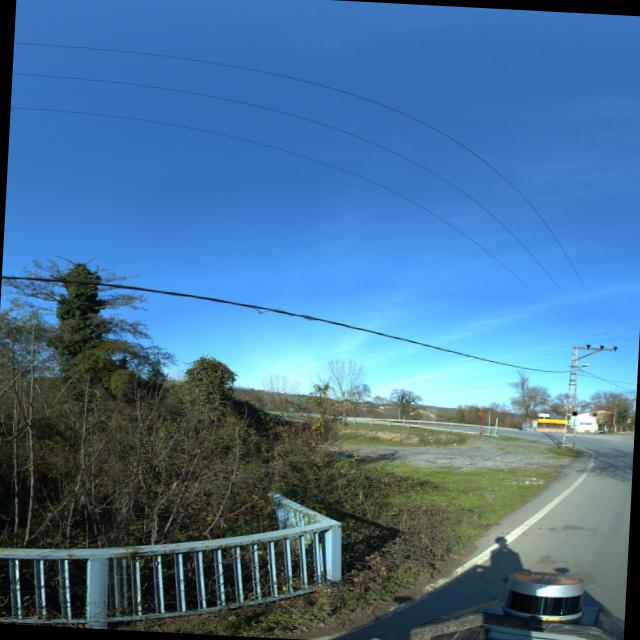Utility Pole Information Plate: (573, 412, 577, 416)
